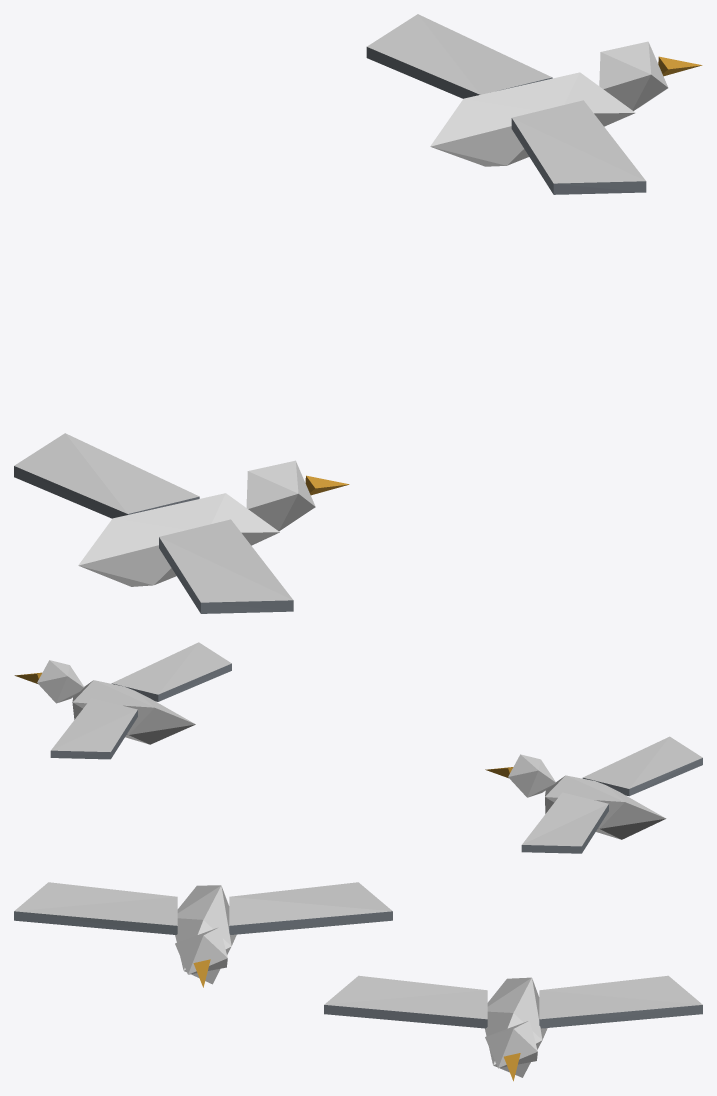
File: gulls.glb
The picture shows the model from 3 angles, top to bottom: view 1: azimuth 30°, elevation 25°; view 2: azimuth 150°, elevation 25°; view 3: azimuth 270°, elevation 25°; orthographic projection. The views are drawn at different scales.
Parts seen in each view (by area): view 1: base, wingR1_m, wingR0_m, wingL0_m, wingL1_m; view 2: base, wingR0_m, wingR1_m, wingL0_m, wingL1_m; view 3: base, wingL1_m, wingR0_m, wingR1_m, wingL0_m.
Part boxes in pixels (bbox=[...]): base: bbox=[78, 41, 702, 586]; wingR1_m: bbox=[511, 100, 646, 194]; wingR0_m: bbox=[159, 519, 293, 613]; wingL0_m: bbox=[14, 433, 199, 518]; wingL1_m: bbox=[366, 14, 552, 98]; base: bbox=[14, 660, 666, 839]; wingR0_m: bbox=[582, 736, 702, 796]; wingR1_m: bbox=[111, 642, 231, 701]; wingL0_m: bbox=[521, 792, 608, 853]; wingL1_m: bbox=[50, 698, 137, 759]; base: bbox=[175, 885, 547, 1081]; wingL1_m: bbox=[539, 975, 702, 1028]; wingR0_m: bbox=[14, 882, 177, 934]; wingR1_m: bbox=[324, 975, 487, 1028]; wingL0_m: bbox=[229, 882, 392, 934].
Bounding box in the file's own units: 0.4535 × 0.1278 × 0.4.
